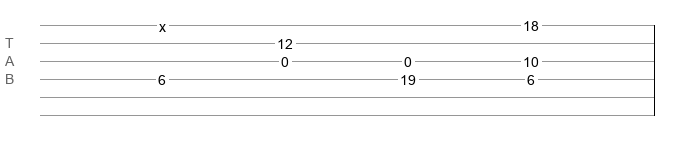0: (281, 54, 289, 64), (404, 54, 412, 64)
10: (523, 54, 539, 64)
12: (277, 36, 293, 46)
18: (523, 18, 539, 28)
19: (400, 72, 416, 82)
6: (158, 72, 166, 82), (527, 72, 535, 82)
x: (159, 19, 166, 27)
